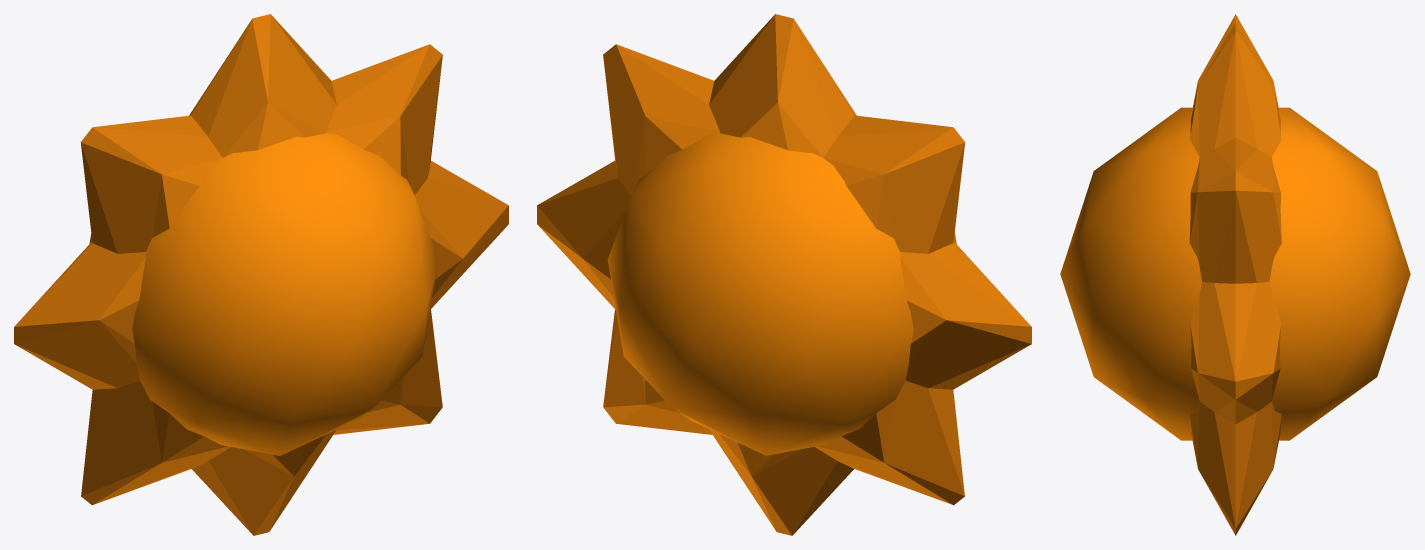
File: Sun_483.gltf
3 renders of one model, left to right at view 1: azimuth 30°, elevation 25°; view 2: azimuth 150°, elevation 25°; view 3: azimuth 270°, elevation 25°, orthographic. The views are drawn at different scales.
Visible parts, largest first — view 1: node-0; view 2: node-0; view 3: node-0.
Boxes of the visible parts, x1,y1,x2,y2 form: node-0: (14,14,508,535); node-0: (537,14,1031,535); node-0: (1060,14,1410,535).
Size of the model in its own units: 56.07 by 56.07 by 35.82.
